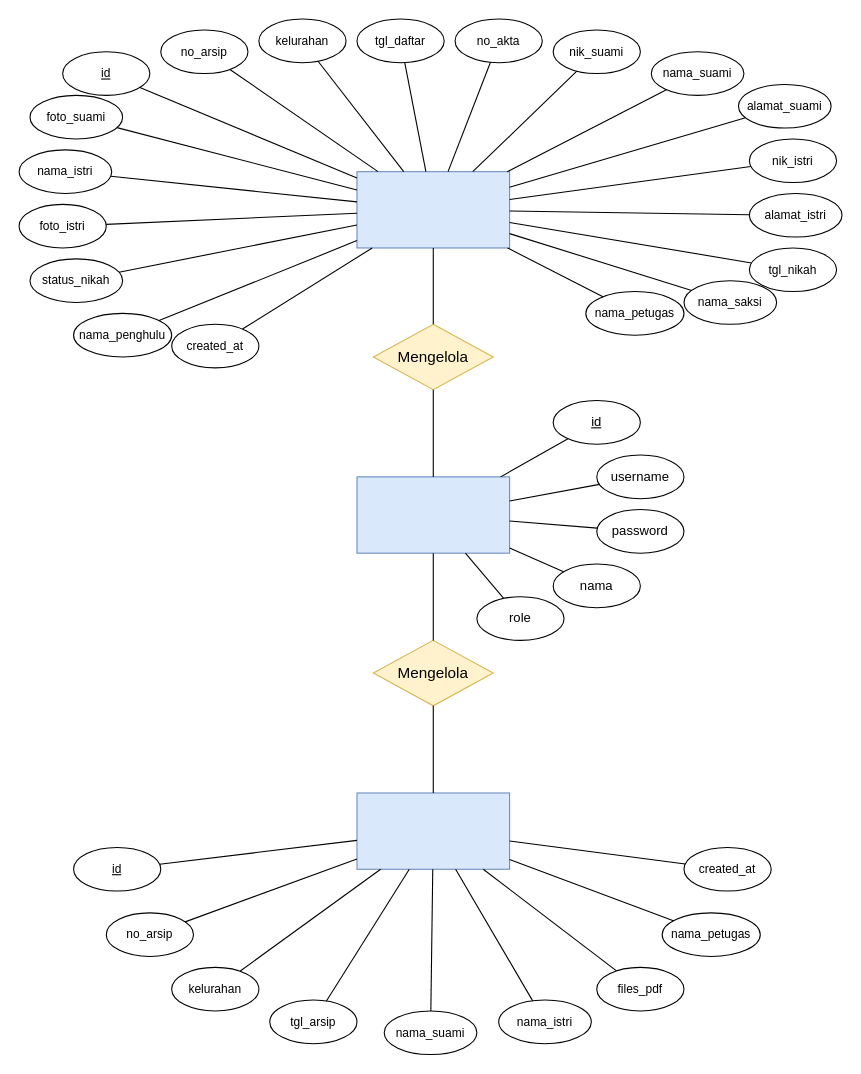
Image size: 861x1074. Some labels were removed from this diagram. The box of each missing label's shape, as (x1, y1, x2, y2) in pixels:
Arsip: (356, 171, 510, 248)
Arsip_Scan: (356, 792, 510, 869)
Pengguna: (356, 476, 510, 553)
